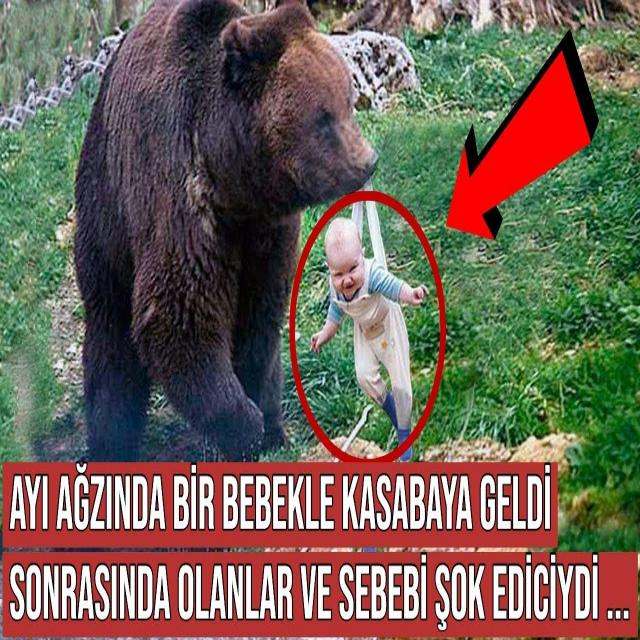Bear: (72, 0, 379, 462)
